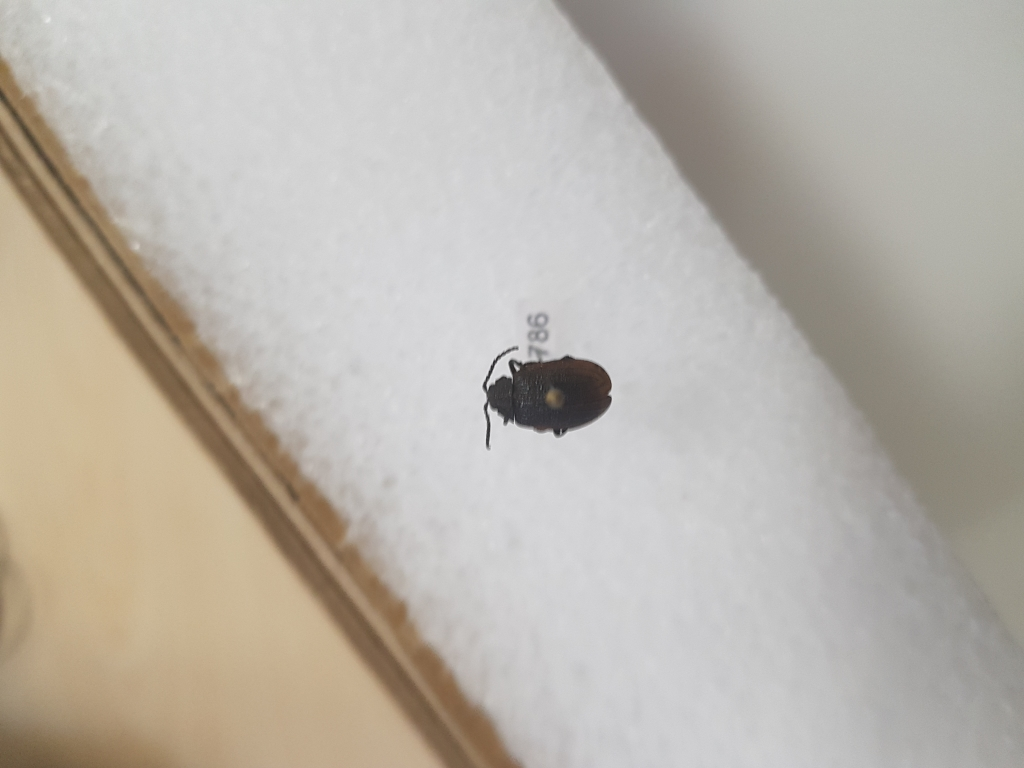Galeruca_tanaceti: (470, 327, 616, 454)
